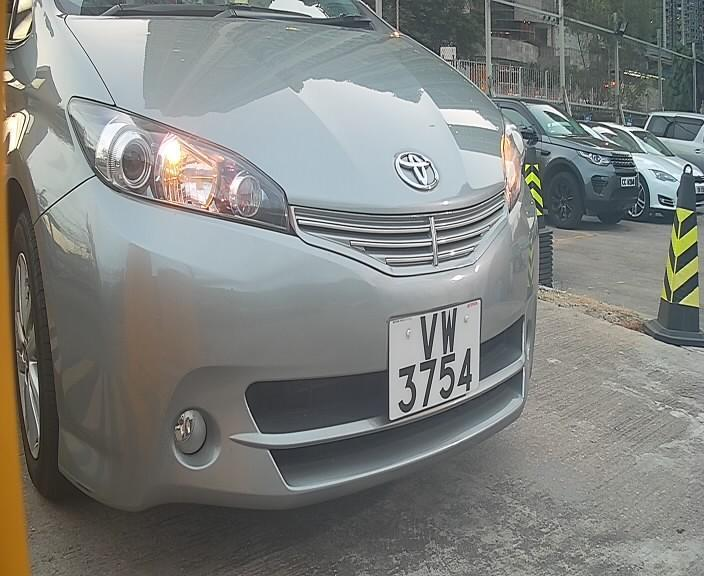privatecar: (23, 19, 560, 515)
